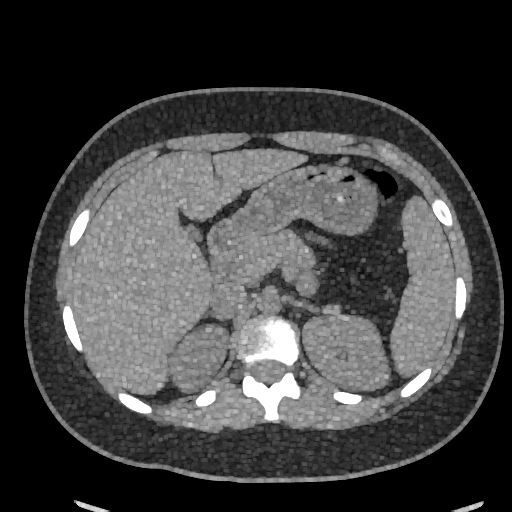Lesion: (317, 302, 344, 318)
